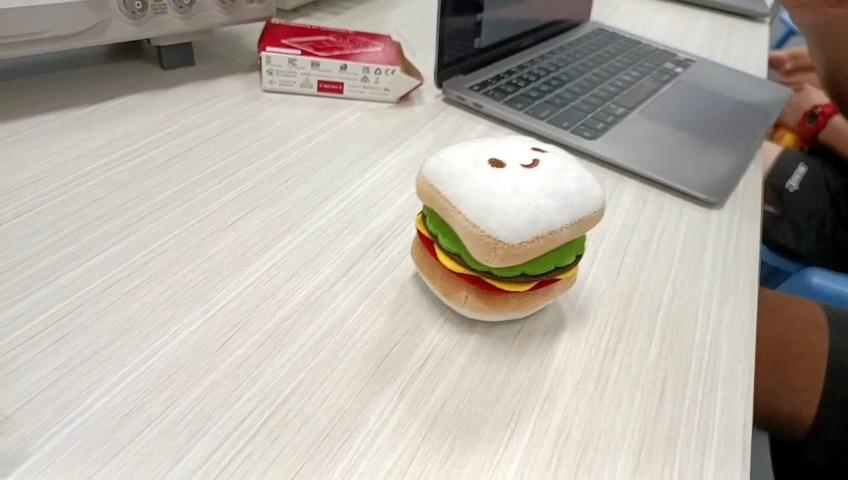objects: (410, 132, 607, 325)
